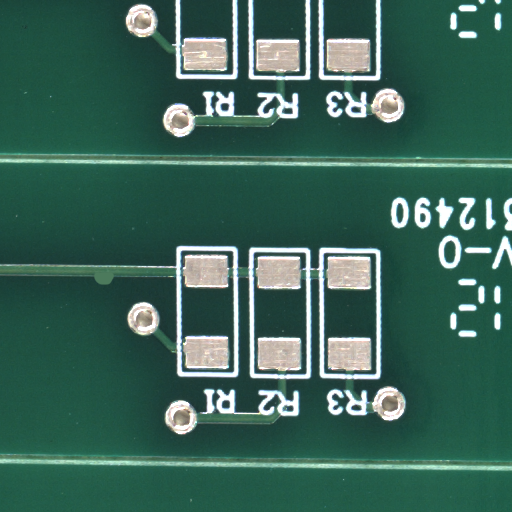Spur: (103, 279, 126, 291)
